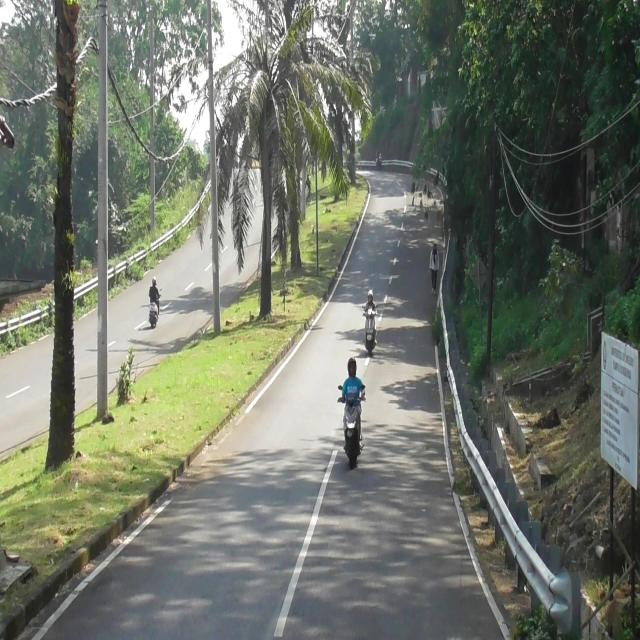motorcycle: (344, 392, 362, 466), (363, 309, 377, 357), (150, 300, 159, 328), (376, 156, 382, 170)
person: (339, 354, 366, 402), (364, 290, 378, 312), (150, 276, 160, 304), (376, 149, 382, 157)
rider_region: (336, 358, 369, 467), (363, 287, 378, 350), (148, 272, 162, 332), (373, 140, 383, 172)
